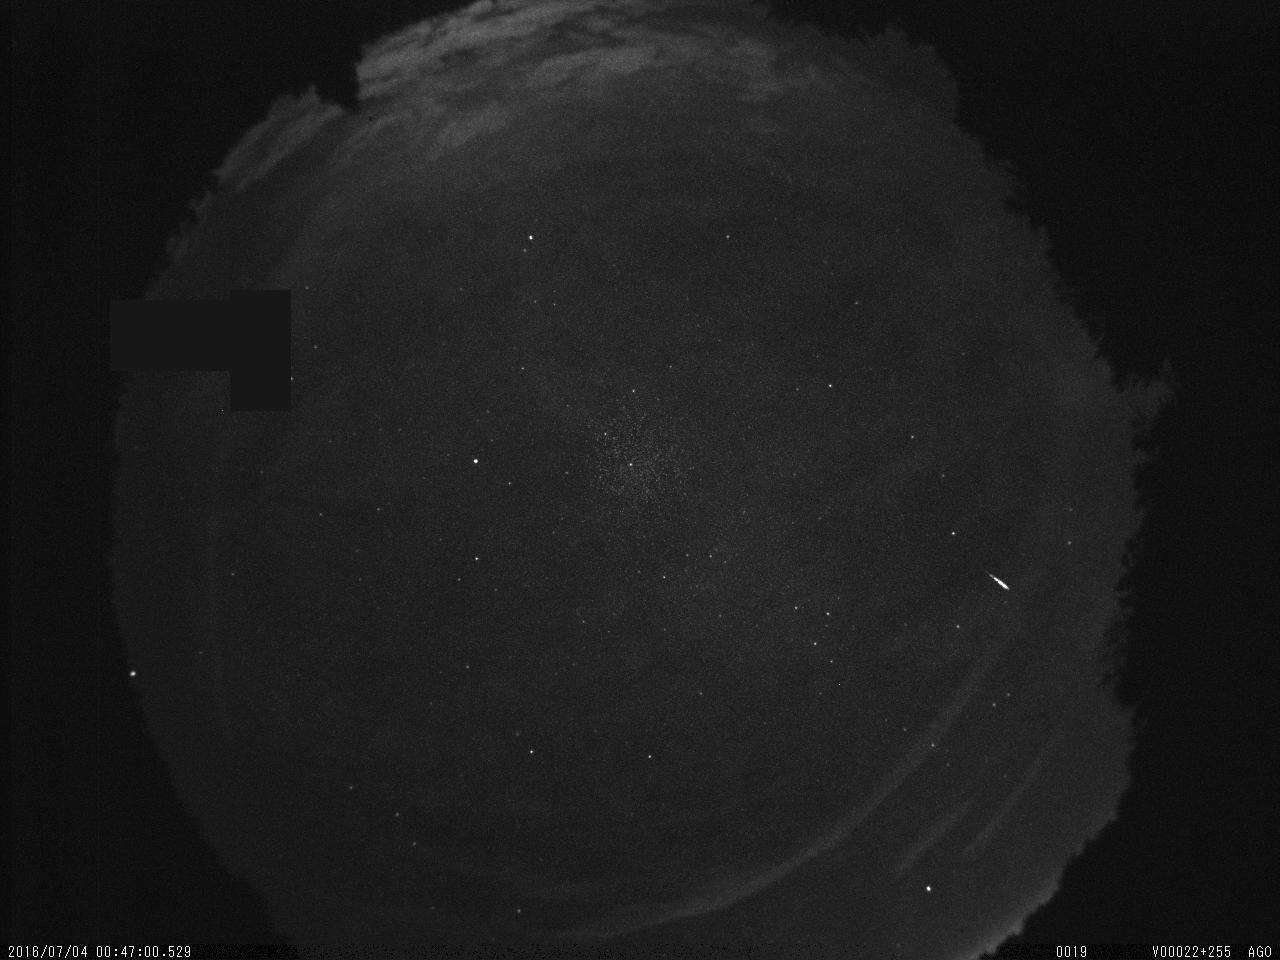meteor: (971, 557, 1027, 610)
